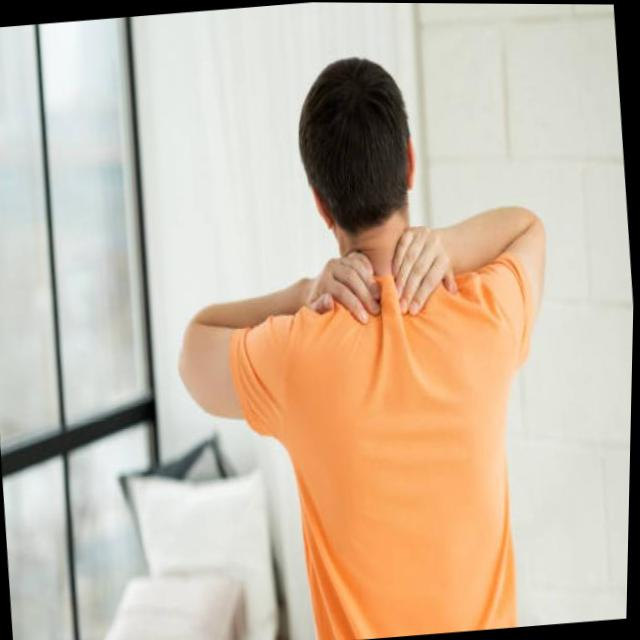no helmet: (287, 51, 426, 243)
